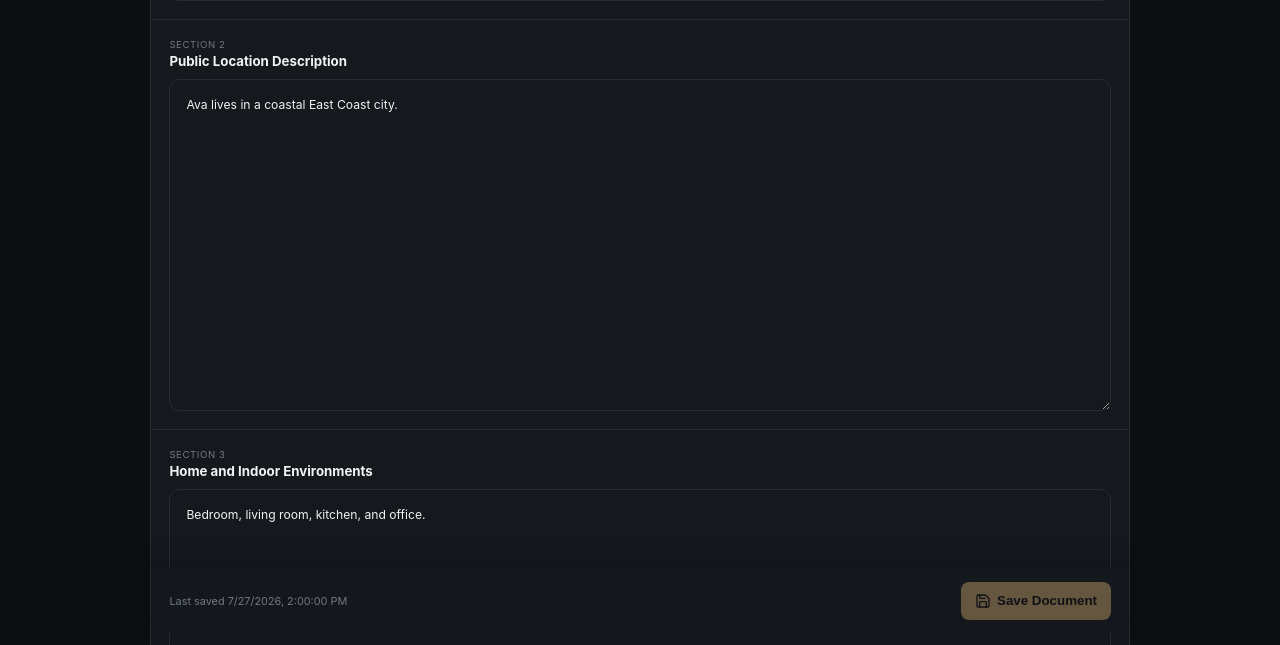
Test: CreatorWorldModelPage › tracks dirty state and saves only World Model fields
(page scrolled)
Step 1. Replace the text in the text box labelled "Section 2 Public Location Description" with "Updated public location" → (640, 245), box [169,79,1111,411]
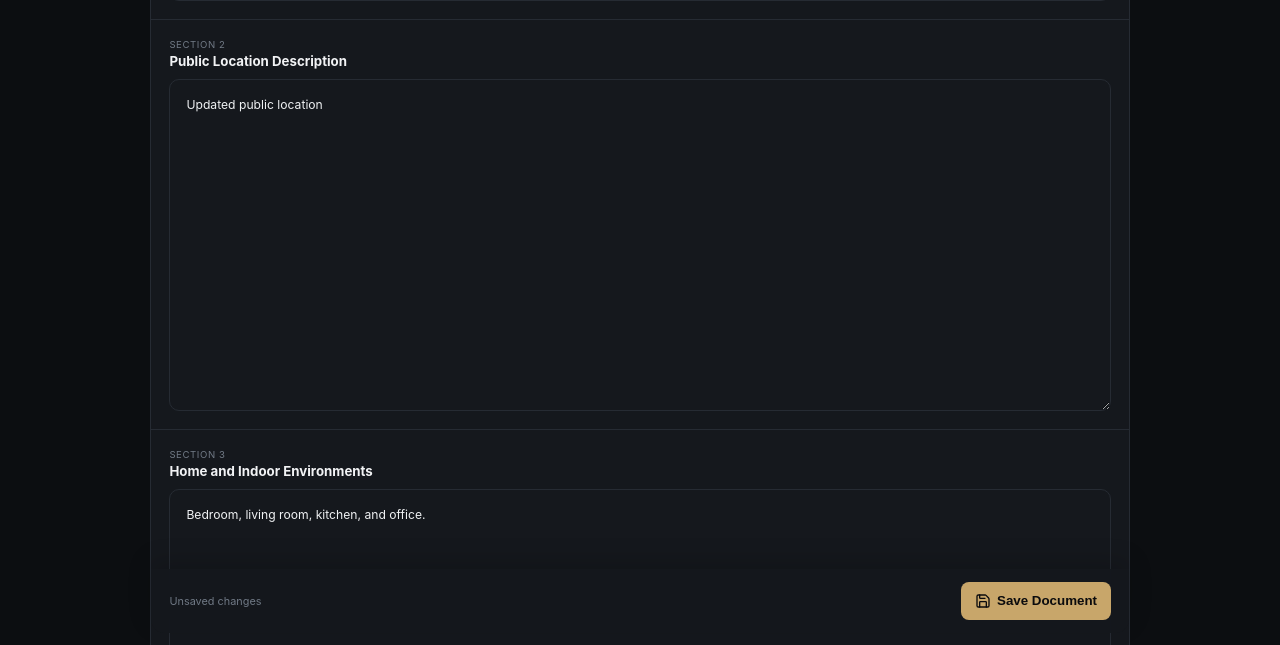
Result: the button "Save Document" is enabled
Result: the text "Unsaved changes" is shown at [169,594,262,608]
Step 2. Click the button "Save Document" → (1036, 601), box [961,582,1111,620]
(page scrolled)
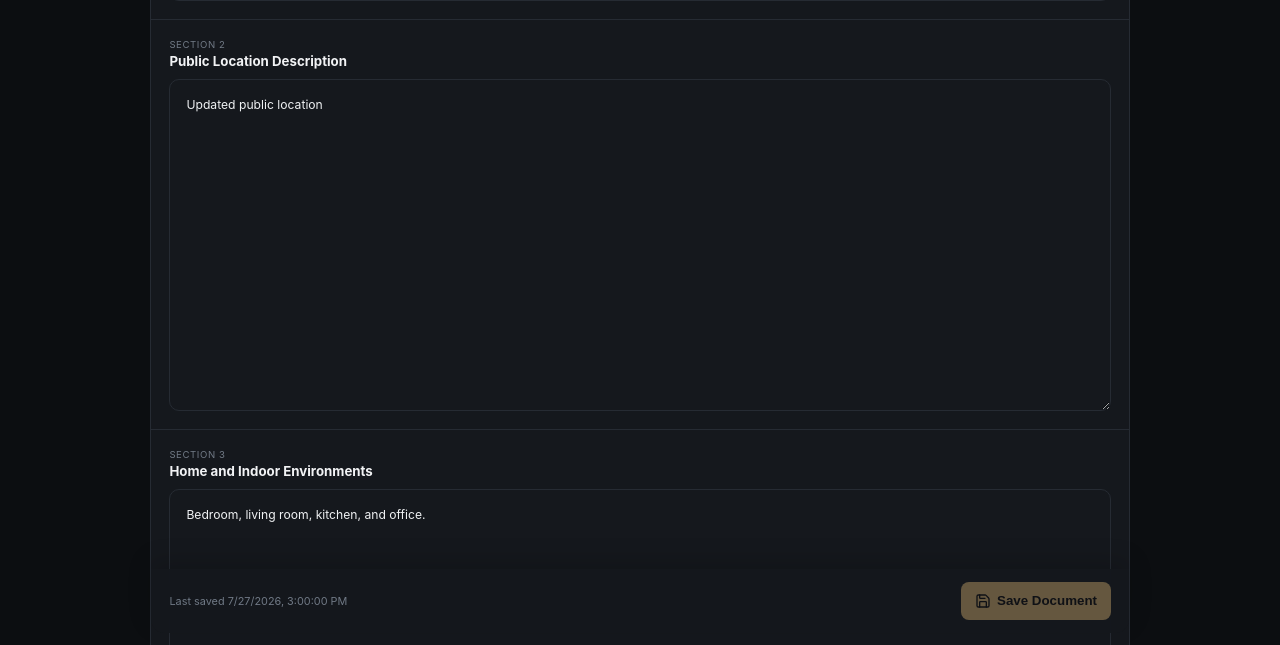
Result: the button "Save Document" is disabled at [961,582,1111,620]
